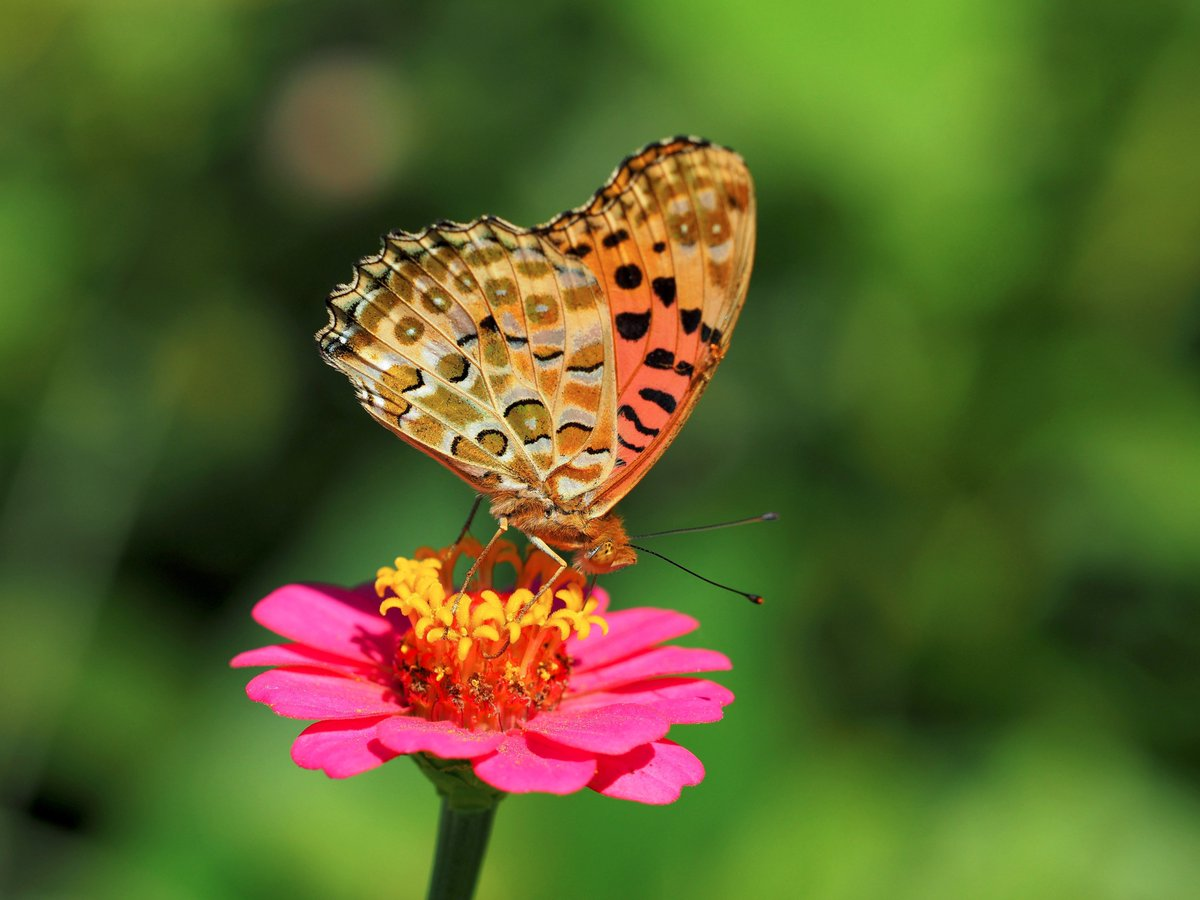Argyreus hyperbius: (303, 129, 784, 619)
butterfly: (305, 131, 786, 621)
